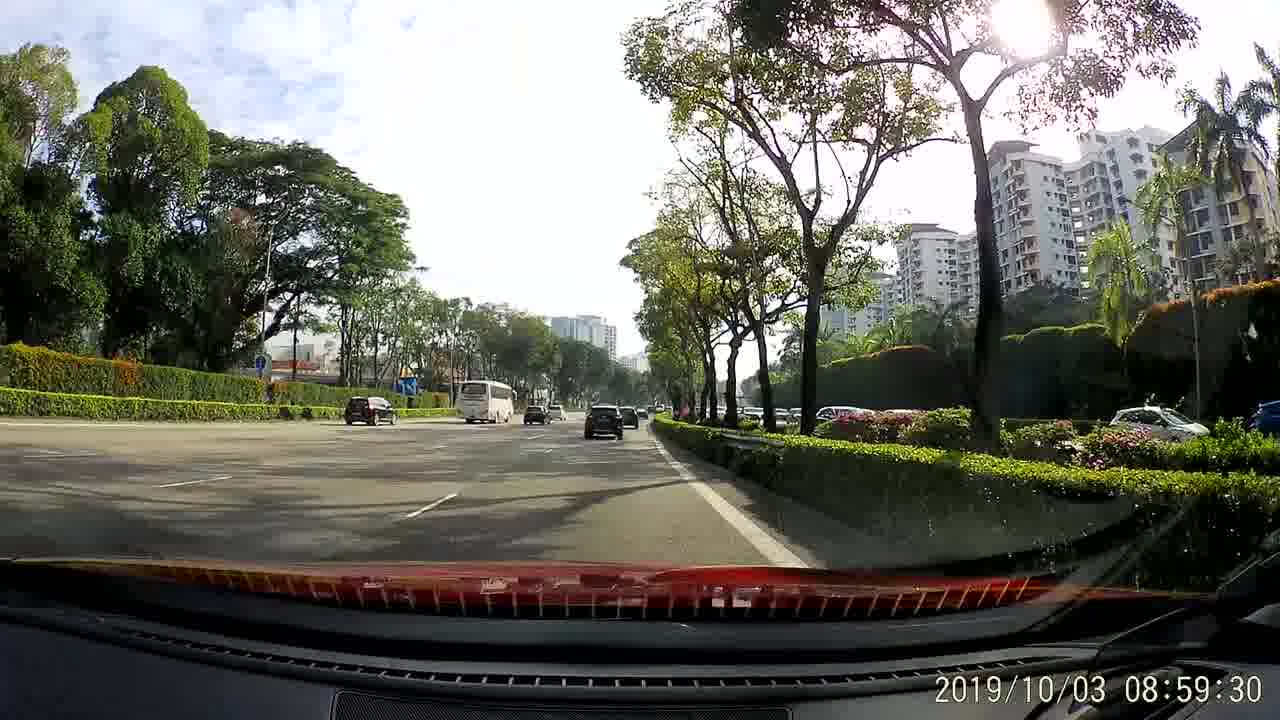bus: (452, 379, 516, 425)
car: (1108, 400, 1210, 437), (342, 394, 401, 426), (582, 403, 625, 443), (618, 406, 641, 431), (542, 401, 568, 421), (525, 407, 551, 425)
